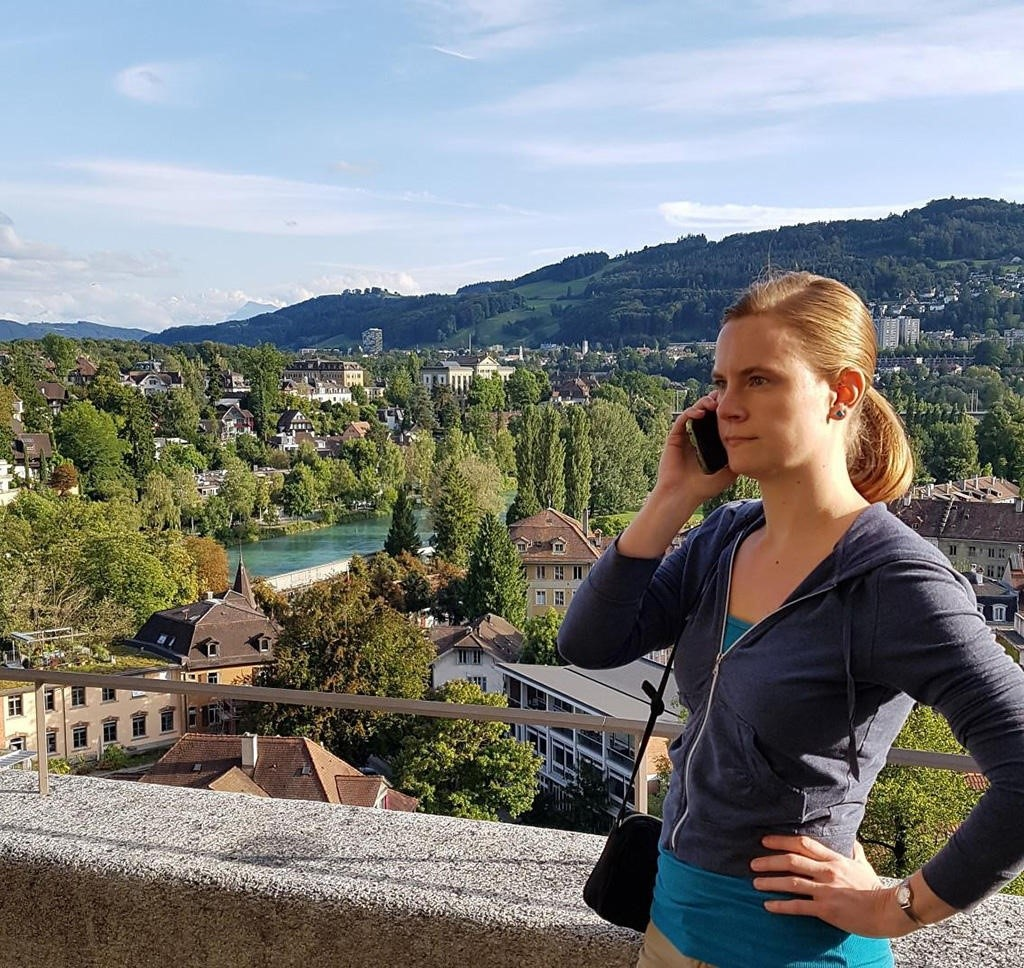face_no_mask: (709, 271, 871, 475)
